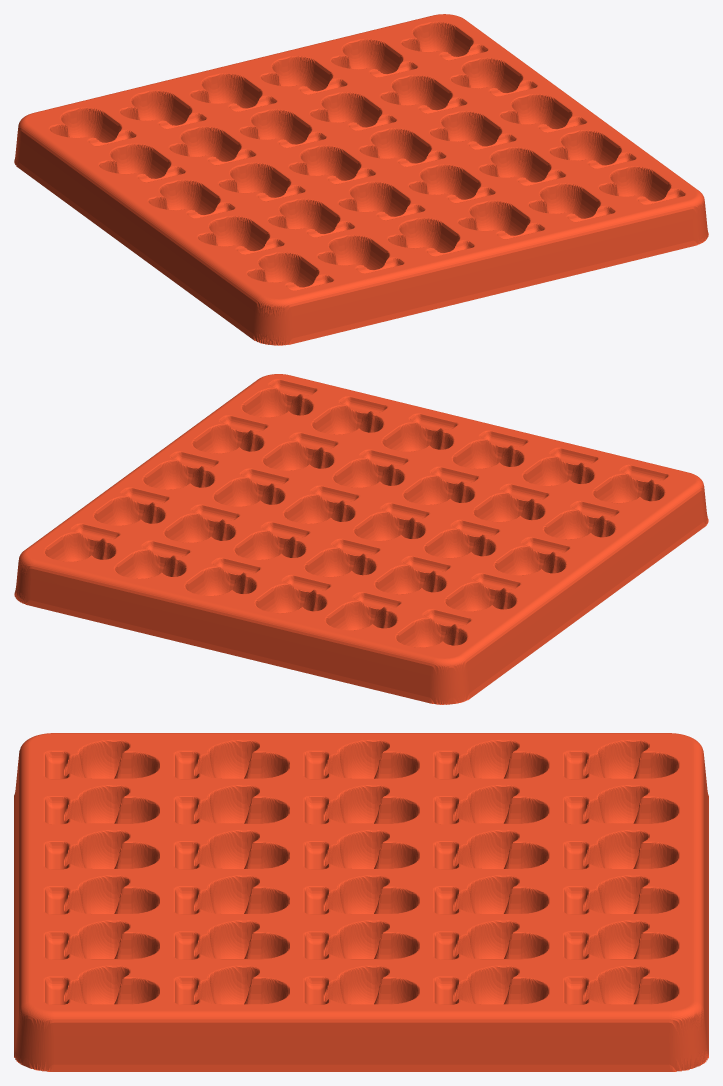
The model's file is mold.glb.
3 views of the same model, one above another, from view 1: azimuth 30°, elevation 25°; view 2: azimuth 150°, elevation 25°; view 3: azimuth 270°, elevation 25° (orthographic). The views are drawn at different scales.
Parts seen in each view (by area): view 1: geometry_0; view 2: geometry_0; view 3: geometry_0.
Part boxes in pixels (x1=…): geometry_0: x1=14, y1=14, x2=708, y2=345; geometry_0: x1=14, y1=374, x2=708, y2=704; geometry_0: x1=14, y1=733, x2=708, y2=1071.
Bounding box in the file's own units: 0.1563 × 0.0136 × 0.1581.
